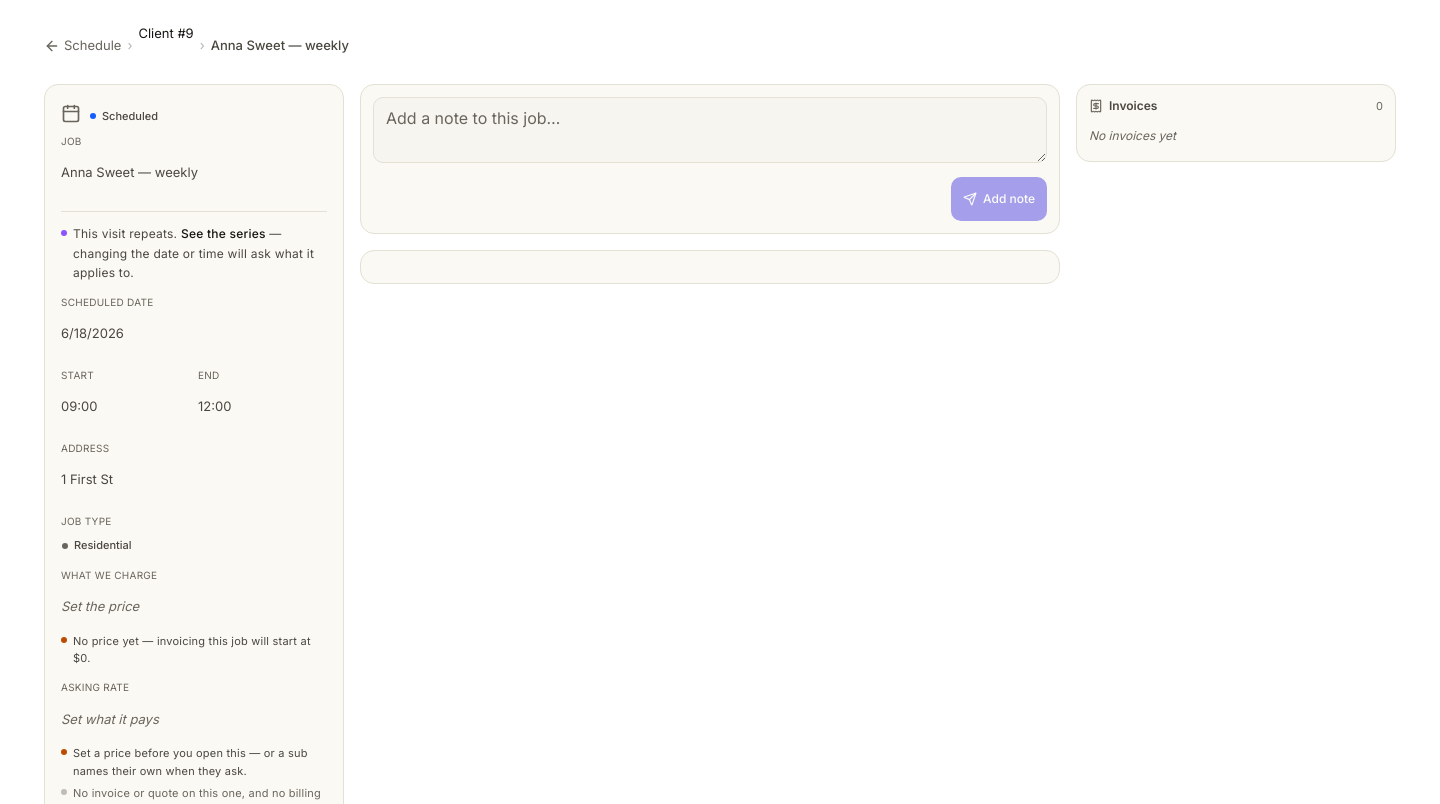
it: JobDetail — a visit that belongs to a series › asks about a time change too — the visit still moves
Check: the text "This visit repeats" is shown, box [73,226,177,241]
Step 1. Click the button "09:00" → click(122, 406), box [57,384,186,428]
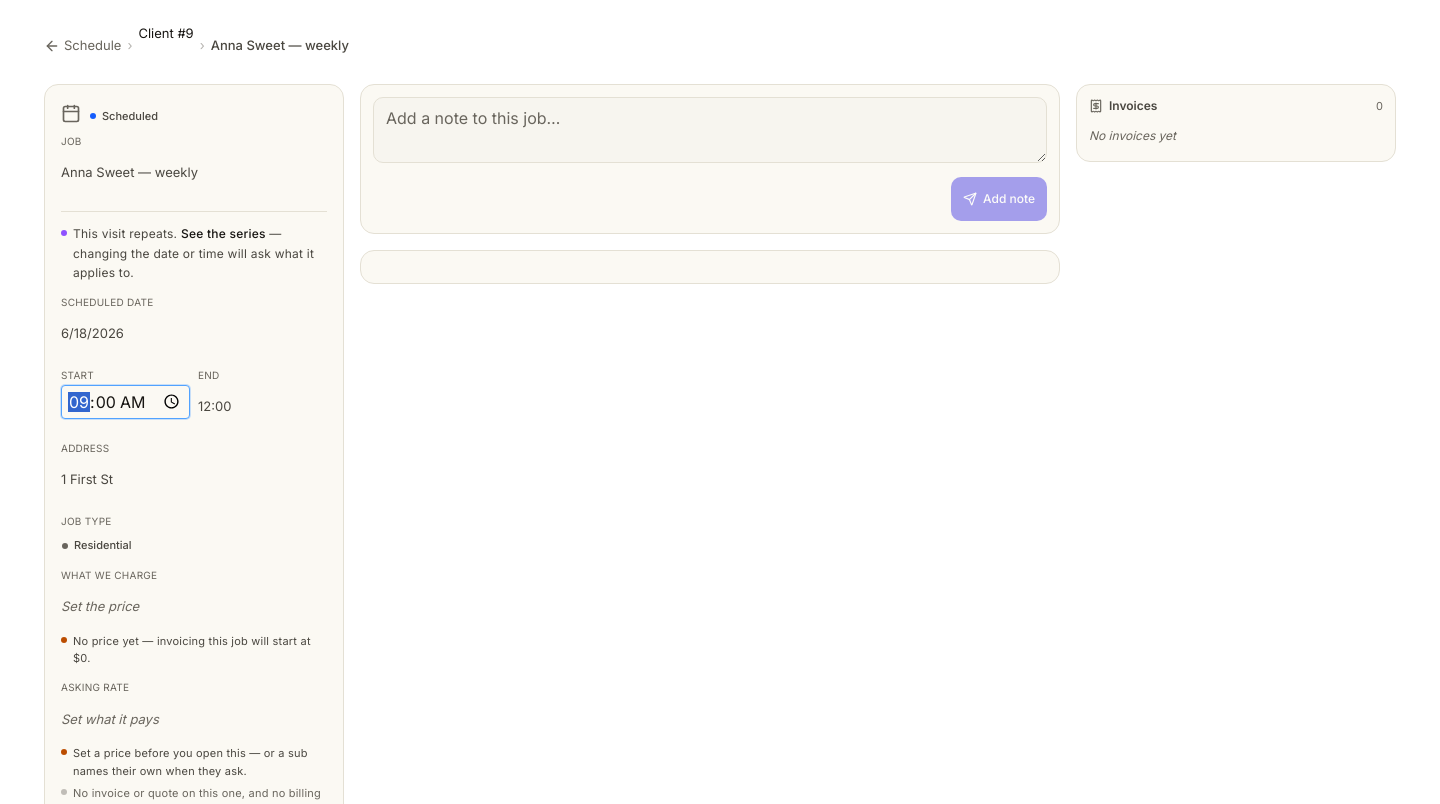
Step 2. Replace the text in the time field with "10:30" → (126, 402), box [61,384,190,418]
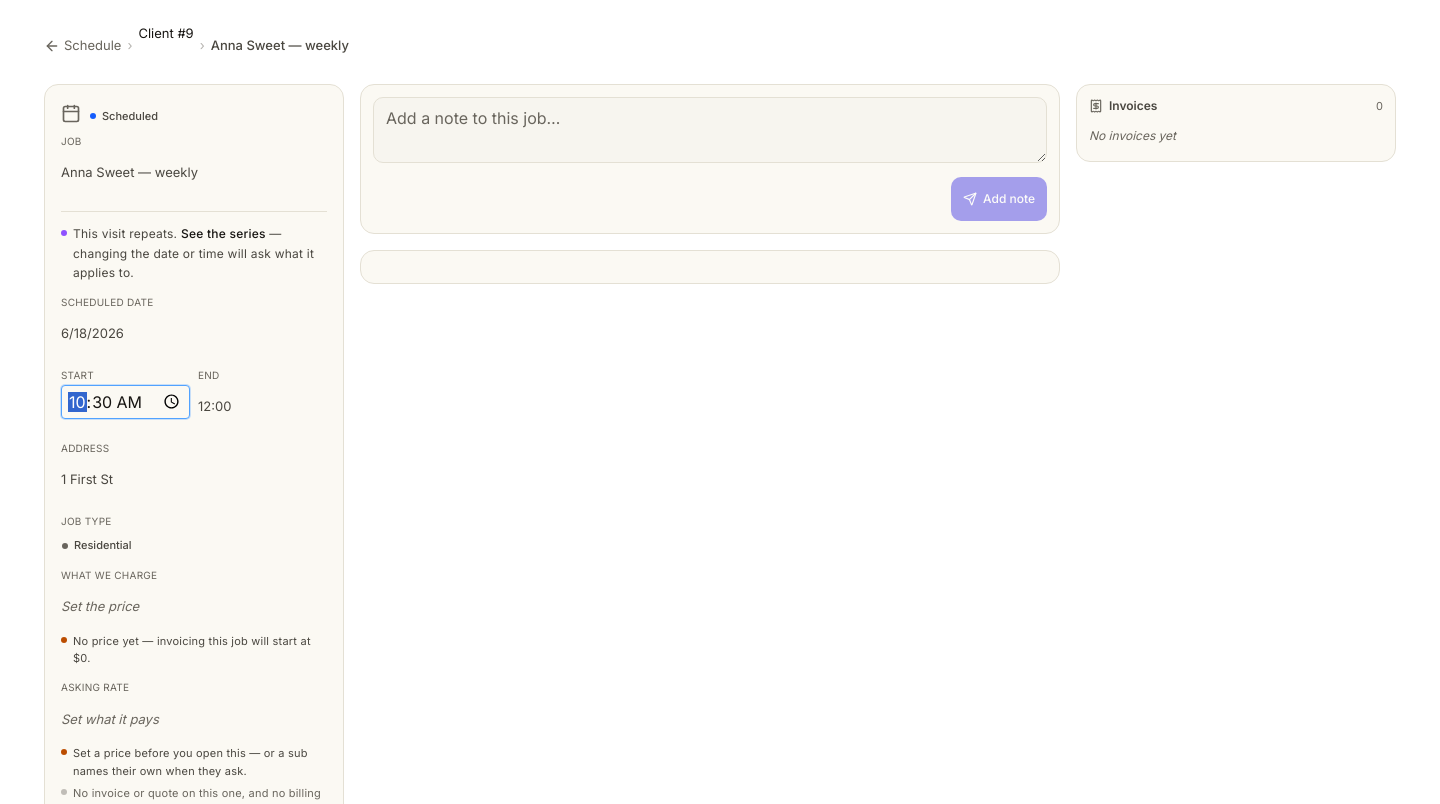
Step 3. Leave the time field, box [61,384,190,418]
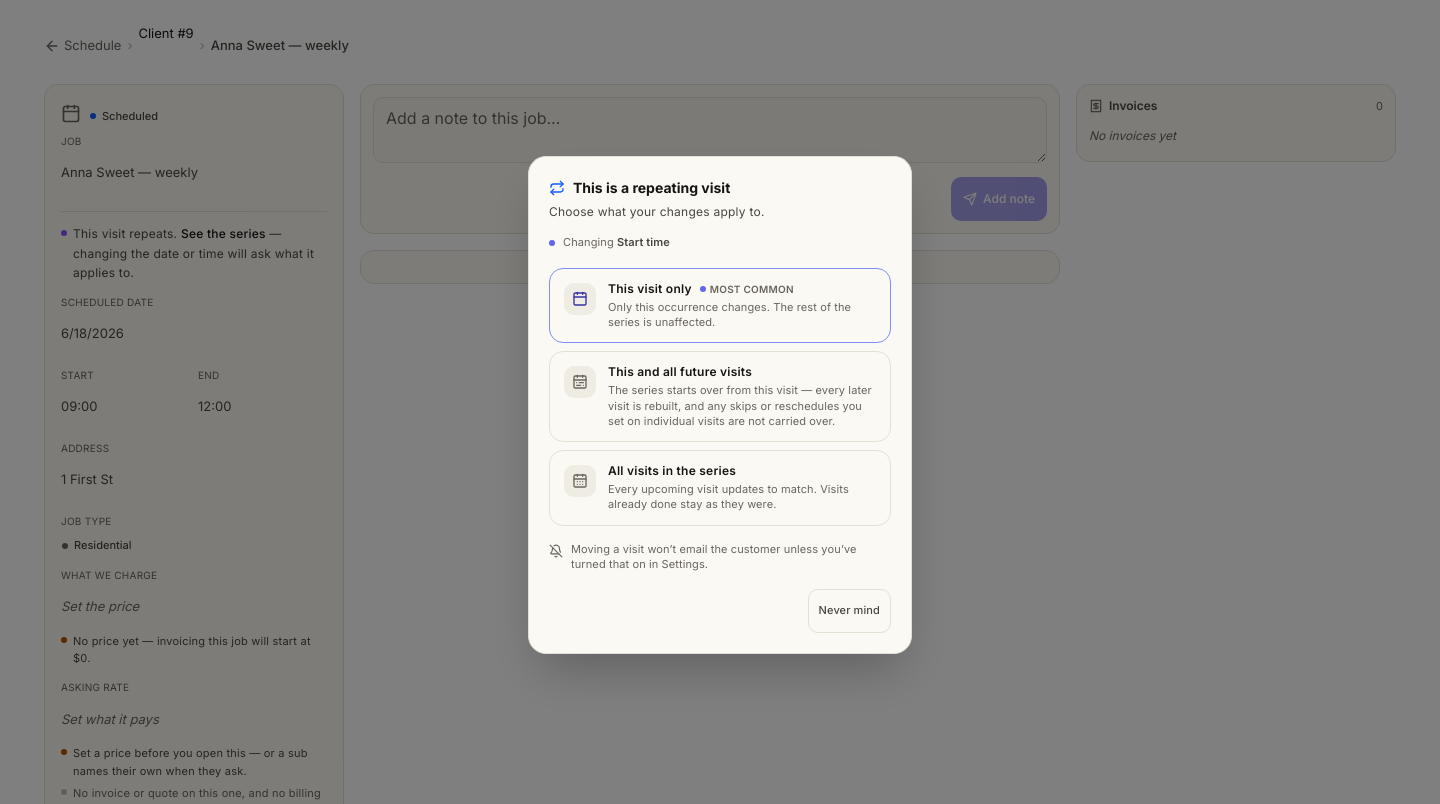
Check: the heading "This is a repeating visit" is shown, box [573,177,730,198]
